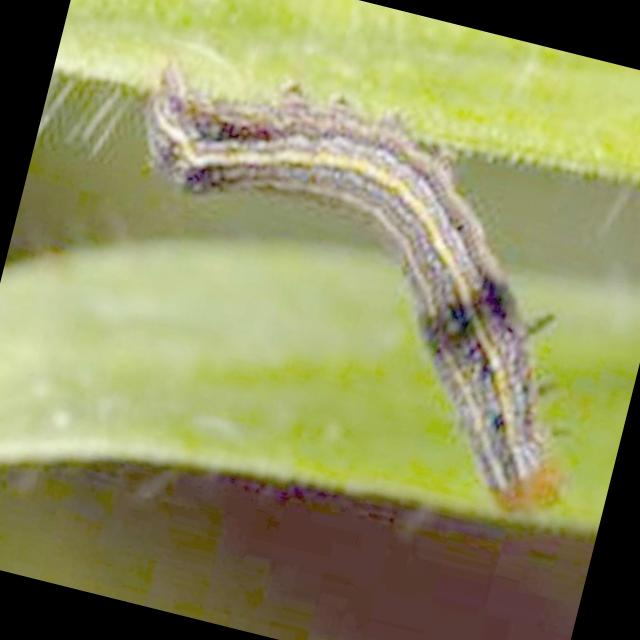pest: (83, 76, 629, 529)
